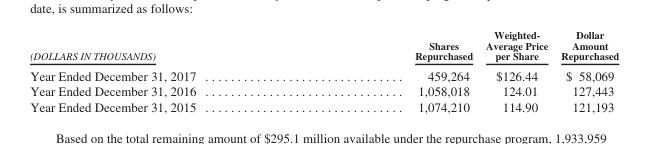table: (29, 28, 618, 113)
table column: (29, 28, 304, 113), (304, 28, 478, 113), (478, 28, 553, 113), (553, 28, 618, 113)
table column header: (29, 28, 618, 64)
table row: (29, 28, 618, 64), (29, 64, 618, 82), (29, 82, 618, 98), (29, 98, 618, 113)
